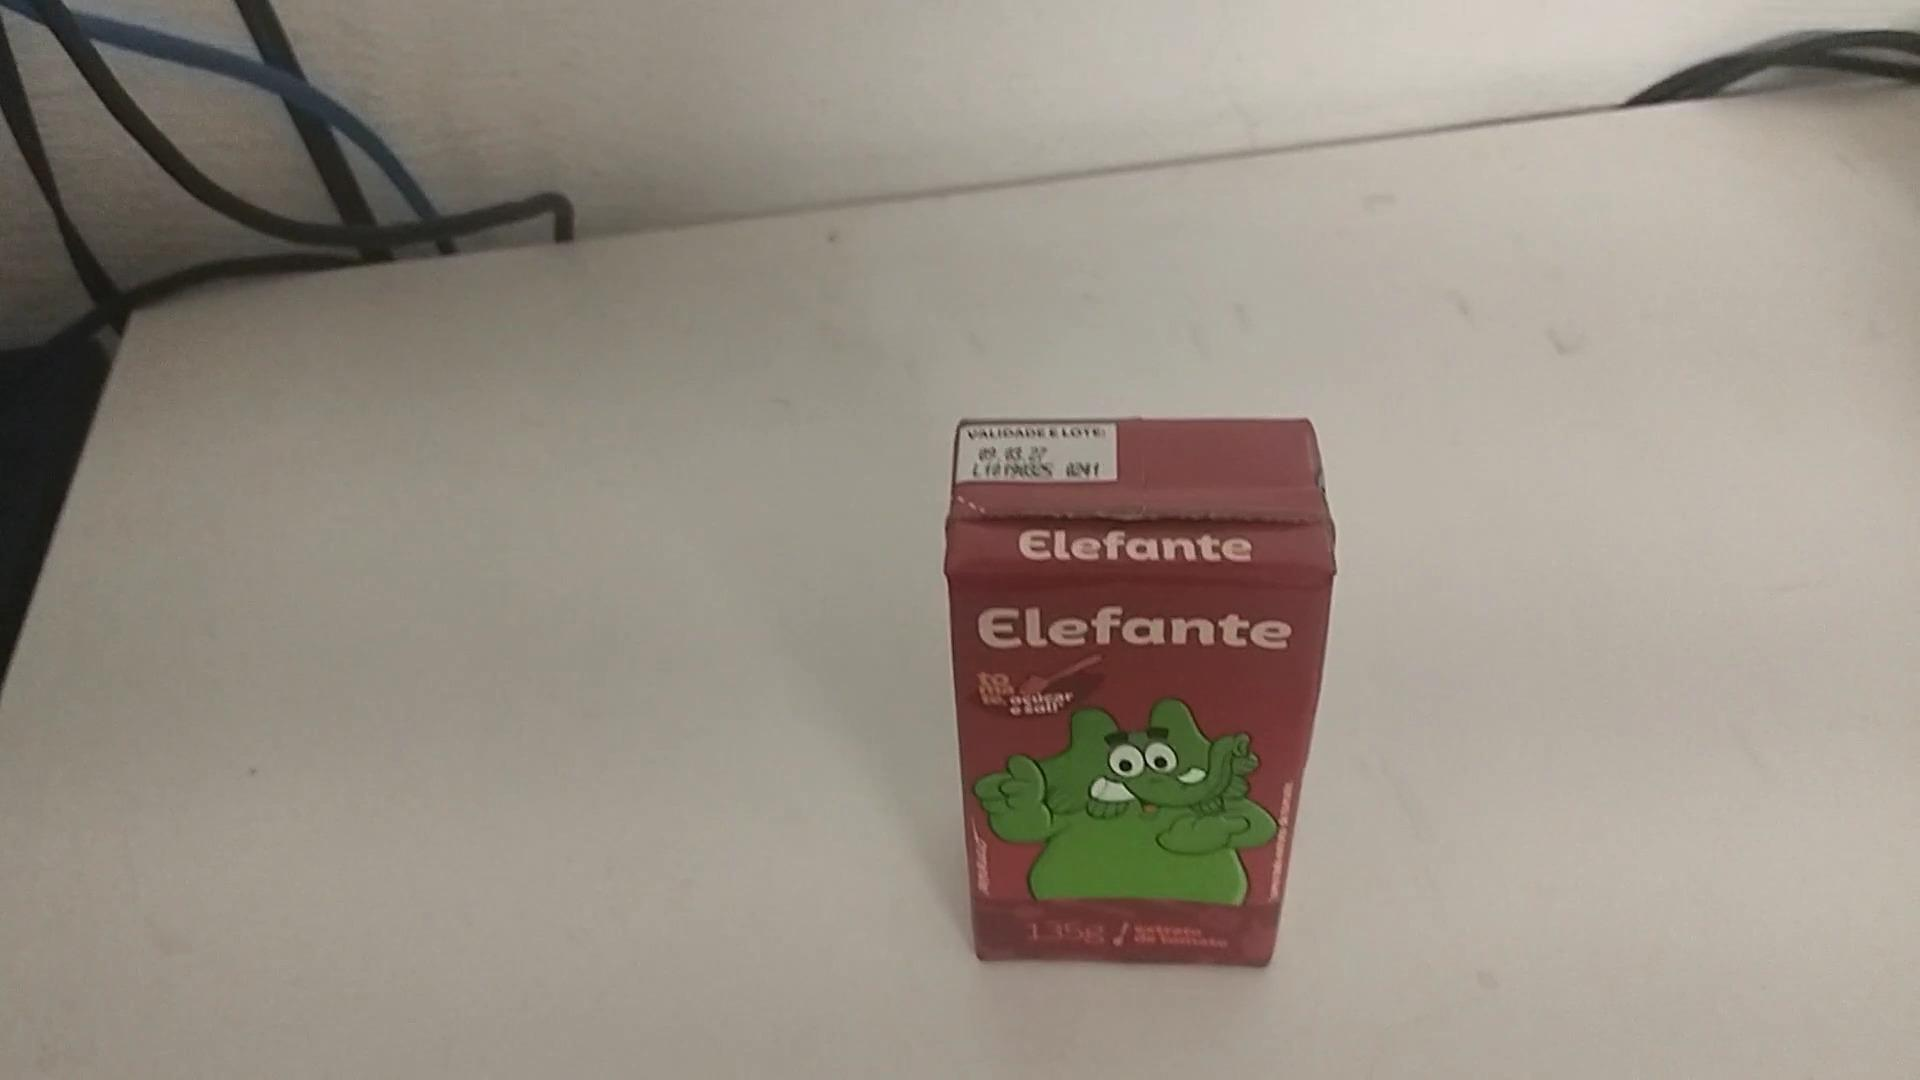tomate: (939, 414, 1338, 972), (951, 418, 1333, 534)
